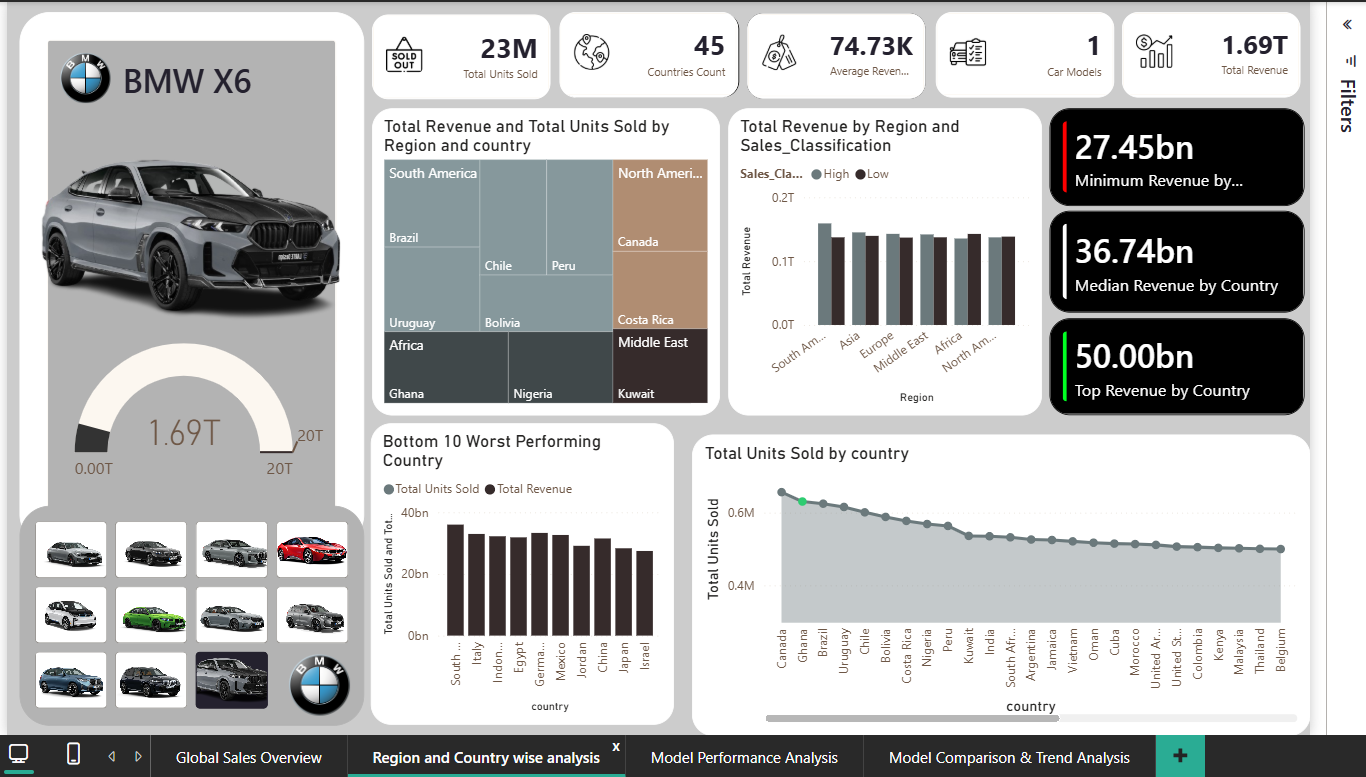

This screenshot's page, from the dashboard's own definition file:
{"tool":"powerbi","page":{"name":"Region and Country wise analysis","canvas":[1280,720],"ordinal":1},"visuals":[{"type":"donutChart","title":"Sales Volume Distribution","fields":{"Category":["Sales.Sales_Classification"],"Y":["_Measures.Total Units Sold"]},"box":[39,408.3,242.4,70.7],"z":0},{"type":"cardVisual","fields":{"Data":["_Measures.Selected Model"]},"box":[11.7,10,338.3,523.3],"z":1000},{"type":"cardVisual","fields":{"Data":["_Measures.Total Units Sold"]},"box":[358.3,11.7,175,83.3],"z":2000},{"type":"cardVisual","fields":{"Data":["_Measures.Total Units Sold"]},"box":[543.1,11.5,175.4,82.3],"z":3000},{"type":"cardVisual","fields":{"Data":["_Measures.Total Units Sold"]},"box":[726.2,11.5,175.4,83.8],"z":4000},{"type":"cardVisual","fields":{"Data":["_Measures.Countries Count"]},"box":[542.5,10,175,83.8],"z":5000},{"type":"cardVisual","fields":{"Data":["_Measures.Average Revenue per Unit"]},"box":[726.2,11.2,175,83.8],"z":6000},{"type":"cardVisual","fields":{"Data":["_Measures.Car Models Count"]},"box":[911.2,10,175,83.8],"z":7000},{"type":"cardVisual","fields":{"Data":["_Measures.Total Revenue"]},"box":[1095,10,175,83.8],"z":8000},{"type":"advancedSlicerVisual","fields":{"Values":["Model_Image.ImageURL"]},"box":[12,494,338,216],"z":9000},{"type":"image","box":[270.7,640.7,71.4,60],"z":10000},{"type":"image","box":[13,80.8,337.6,298.7],"z":11000},{"type":"gauge","fields":{"MaxValue":["Model_Image.Revenue Target"],"TargetValue":["Model_Image.Revenue Target"],"Y":["_Measures.Total Revenue"]},"box":[39,330.4,304.4,148.6],"z":12000},{"type":"treemap","fields":{"Details":["Sales.country"],"Group":["Sales.Region"],"Values":["_Measures.Total Revenue"]},"box":[358.6,104.3,341.4,301.4],"z":13000},{"type":"clusteredColumnChart","fields":{"Category":["Sales.Region"],"Series":["Sales.Sales_Classification"],"Y":["_Measures.Total Revenue"]},"box":[708.5,103.8,307.7,301.5],"z":14000},{"type":"columnChart","title":"Bottom 10 Worst Performing Country","fields":{"Category":["Sales.country"],"Y":["_Measures.Total Units Sold","_Measures.Total Revenue"]},"box":[356.9,413.8,297.5,296.2],"z":15000},{"type":"lineChart","fields":{"Category":["Sales.country"],"Y":["_Measures.Total Units Sold"]},"box":[672.3,424.2,607.4,295.8],"z":16000},{"type":"cardVisual","fields":{"Data":["Model_Image.Median Revenue by Country"]},"box":[1023.8,205,250,100],"z":17000},{"type":"cardVisual","fields":{"Data":["_Measures.Top Country Revenue"]},"box":[1023.8,103.8,250,96.2],"z":18000},{"type":"cardVisual","fields":{"Data":["Model_Image.Top Revenue by Country"]},"box":[1023.8,310,250,95],"z":19000}]}

Visuals, with their boxes on the page's 1280x720 design canvas (x1, y1, x2, y2). These are canvas units, not pixel positions in the 1366x777 screenshot, which may show the page scaled, cropped or inside an application window:
"Sales Volume Distribution" donutChart: 39 408 281 479
cardVisual - _Measures.Selected Model: 12 10 350 533
cardVisual - _Measures.Total Units Sold: 358 12 533 95
cardVisual - _Measures.Total Units Sold: 543 12 718 94
cardVisual - _Measures.Total Units Sold: 726 12 902 95
cardVisual - _Measures.Countries Count: 542 10 718 94
cardVisual - _Measures.Average Revenue per Unit: 726 11 901 95
cardVisual - _Measures.Car Models Count: 911 10 1086 94
cardVisual - _Measures.Total Revenue: 1095 10 1270 94
advancedSlicerVisual - Model_Image.ImageURL: 12 494 350 710
image: 271 641 342 701
image: 13 81 351 380
gauge - Model_Image.Revenue Target x Model_Image.Revenue Target: 39 330 343 479
treemap - Sales.country x Sales.Region: 359 104 700 406
clusteredColumnChart - Sales.Region x Sales.Sales_Classification: 708 104 1016 405
"Bottom 10 Worst Performing Country" columnChart: 357 414 654 710
lineChart - Sales.country x _Measures.Total Units Sold: 672 424 1280 720
cardVisual - Model_Image.Median Revenue by Country: 1024 205 1274 305
cardVisual - _Measures.Top Country Revenue: 1024 104 1274 200
cardVisual - Model_Image.Top Revenue by Country: 1024 310 1274 405
